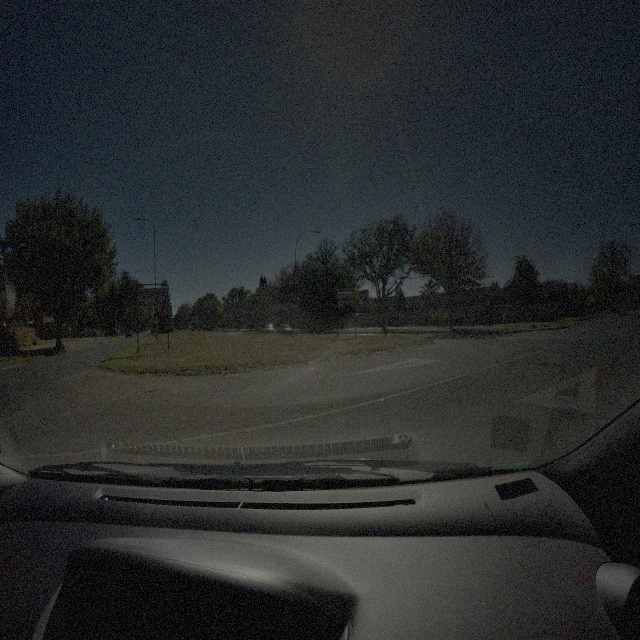pothole: (537, 360, 564, 370)
